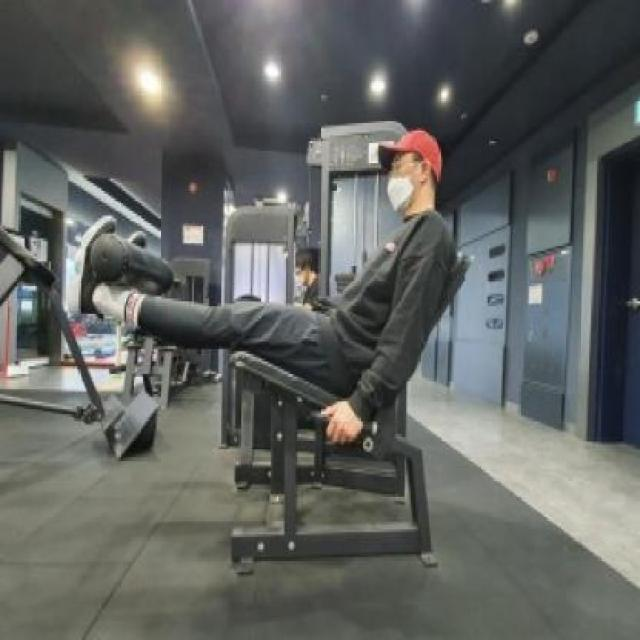leg extension: (63, 112, 475, 586)
